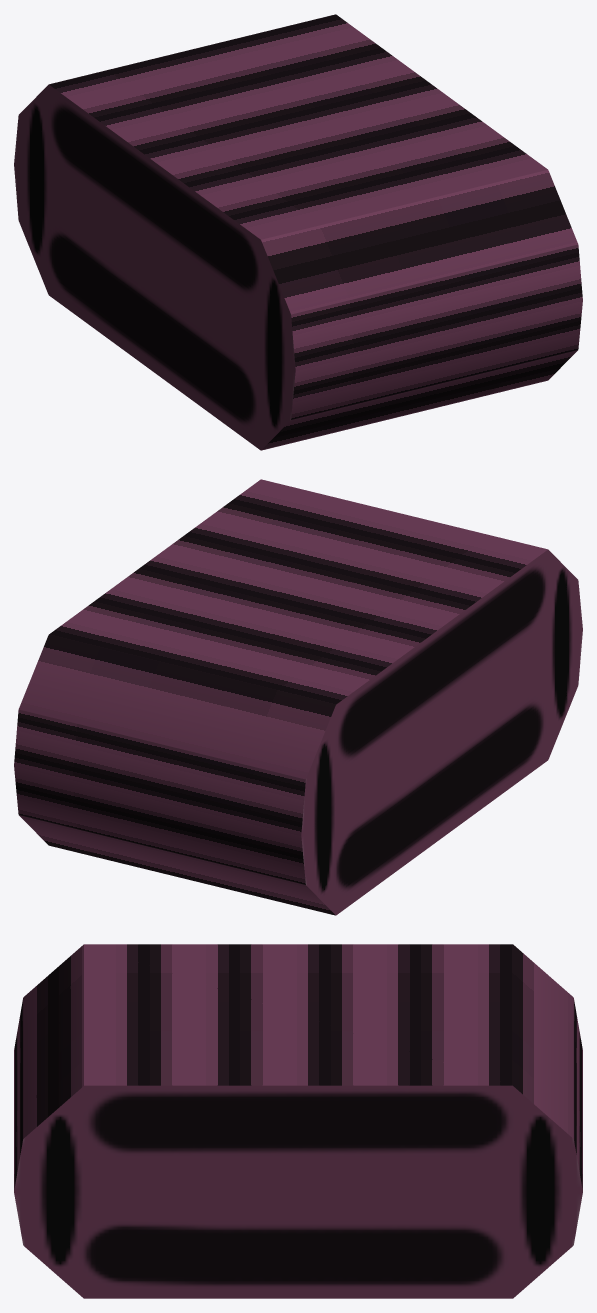
The model's file is robotwheel.FBX.
3 renders of one model, top to bottom at view 1: azimuth 30°, elevation 25°; view 2: azimuth 150°, elevation 25°; view 3: azimuth 270°, elevation 25°, orthographic.
Visible parts, largest first — view 1: Box001; view 2: Box001; view 3: Box001.
Boxes of the visible parts, x1=… form: Box001: x1=14, y1=14, x2=582, y2=450; Box001: x1=14, y1=479, x2=582, y2=915; Box001: x1=14, y1=944, x2=582, y2=1298.
Size of the model in its own units: 24.66 by 17.29 by 41.87.
2 materials, 2 textured.
